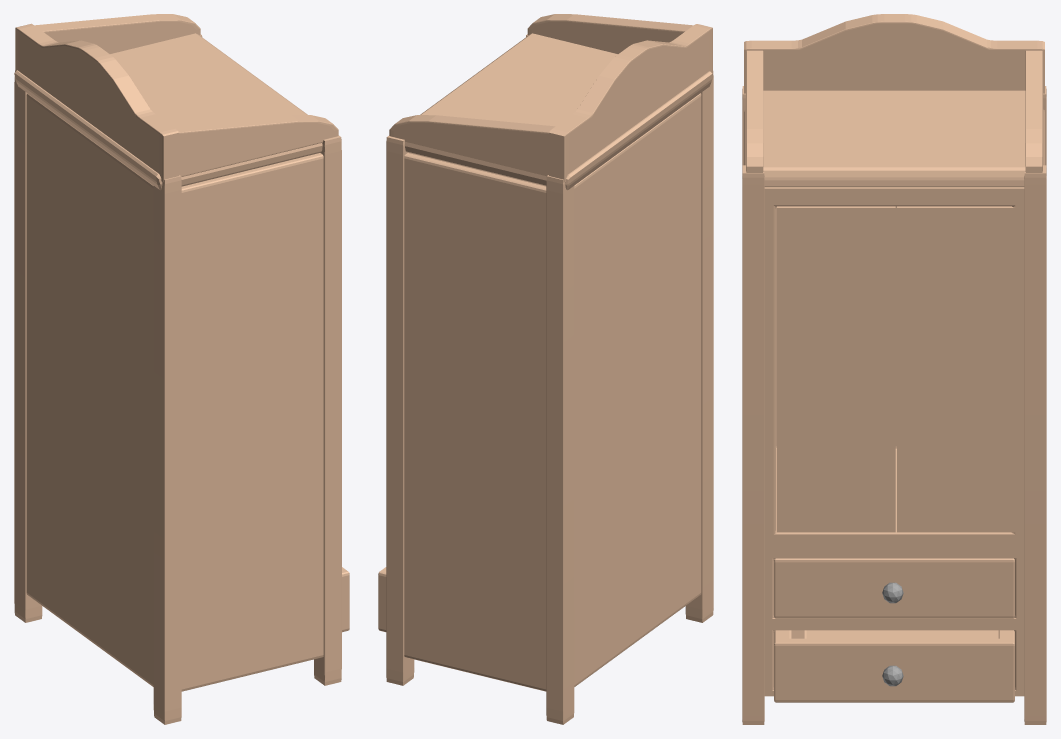
File: wardrobe-w-doors-2.fbx
3 renders of one model, left to right at view 1: azimuth 30°, elevation 25°; view 2: azimuth 150°, elevation 25°; view 3: azimuth 270°, elevation 25°, orthographic.
Parts seen in each view (by area): view 1: Wardrobe; view 2: Wardrobe; view 3: Wardrobe, wardrobe-door-L, wardrobe-door-R.
Boxes of the visible parts, x1,y1,x2,y2 form: Wardrobe: (14,14,349,724); Wardrobe: (378,14,713,724); Wardrobe: (742,14,1046,724); wardrobe-door-L: (777,206,895,532); wardrobe-door-R: (897,206,1015,532).
Bounding box in the file's own units: 191 × 511 × 226.
